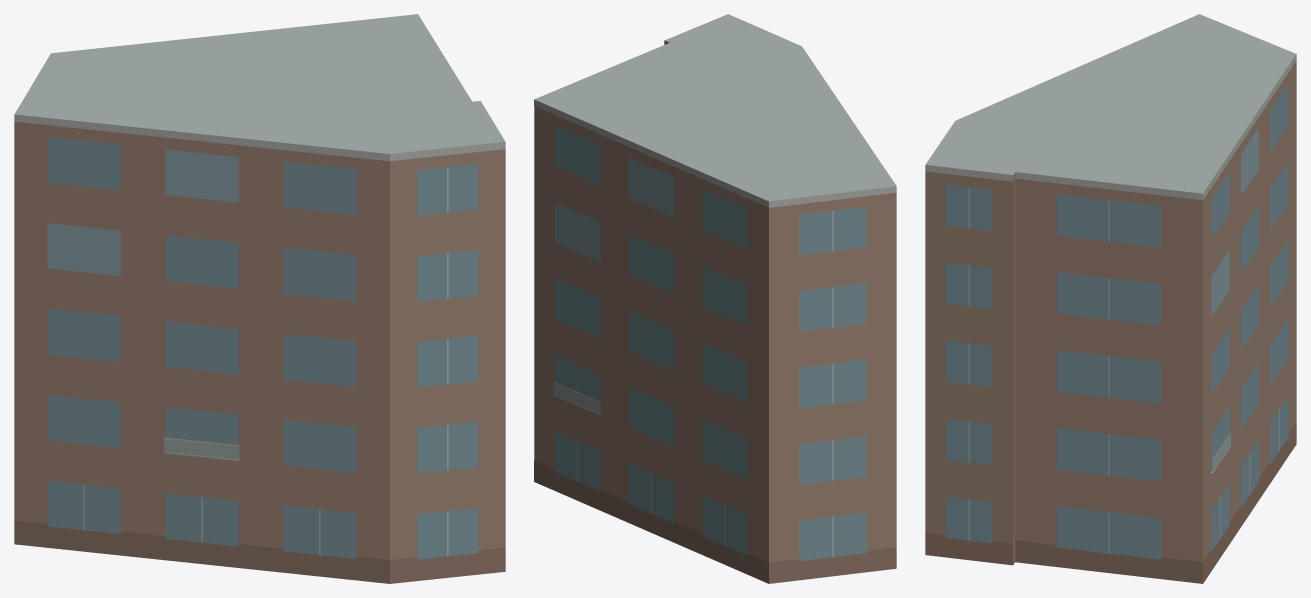
Rendered from survey-upis-32880793.glb.
3 views of the same model, side by side, from view 1: azimuth 30°, elevation 25°; view 2: azimuth 150°, elevation 25°; view 3: azimuth 270°, elevation 25° (orthographic). The views are drawn at different scales.
Visible parts, largest first — view 1: survey-upis-32880793.tmp; view 2: survey-upis-32880793.tmp; view 3: survey-upis-32880793.tmp.
Part boxes in pixels (bbox=[...]): survey-upis-32880793.tmp: bbox=[14, 14, 505, 583]; survey-upis-32880793.tmp: bbox=[534, 14, 896, 583]; survey-upis-32880793.tmp: bbox=[925, 14, 1296, 583].
Size of the model in its own units: 14.33 by 14.5 by 12.51.
